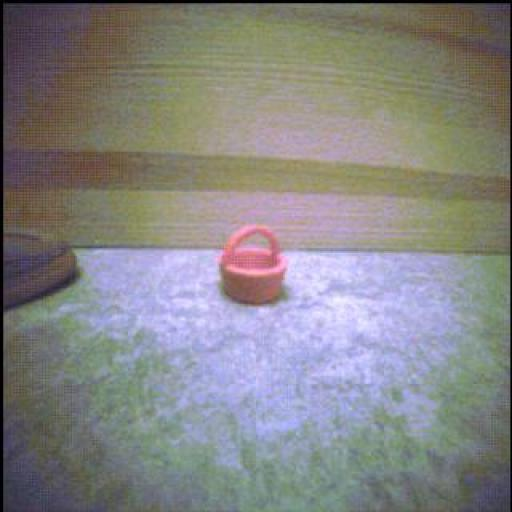Bucket: (221, 227, 288, 305)
